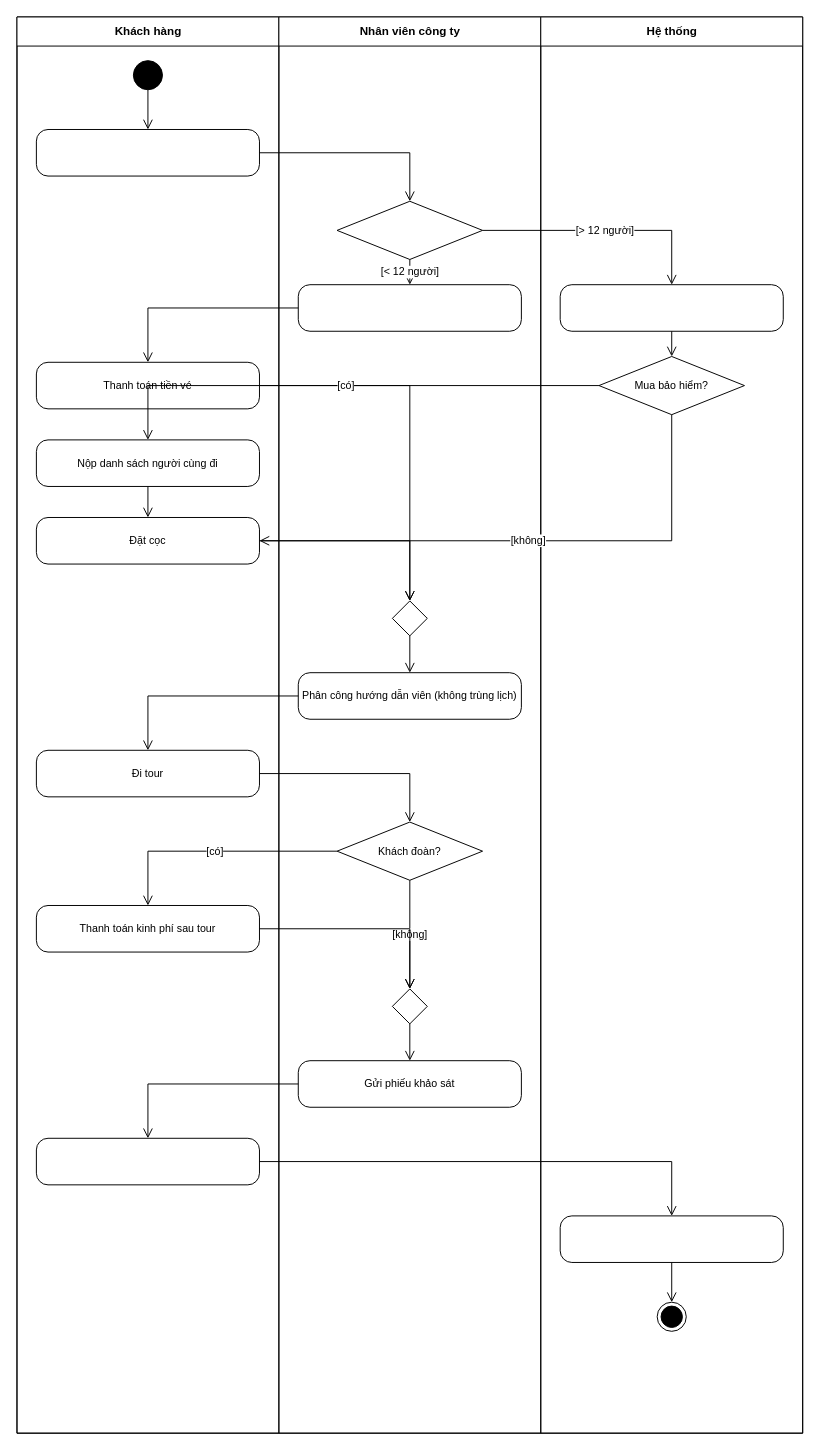
Some shapes in this 820 by 1450 pixel diagram are drawn without their labels. The shapes that lost their labels are listed below. From the top down, each one's centre as x and y in pixels, then its label:
pixel 147 152: Chọn tour, cho biết số người đi
pixel 409 229: Số người?
pixel 409 307: Chọn chuyến đang mở, lập phiếu khách lẻ
pixel 671 307: Lập phiếu đăng ký đoàn (ngày đi tùy chọn)
pixel 147 1161: Trả lời khảo sát, góp ý
pixel 671 1238: Ghi nhận góp ý
